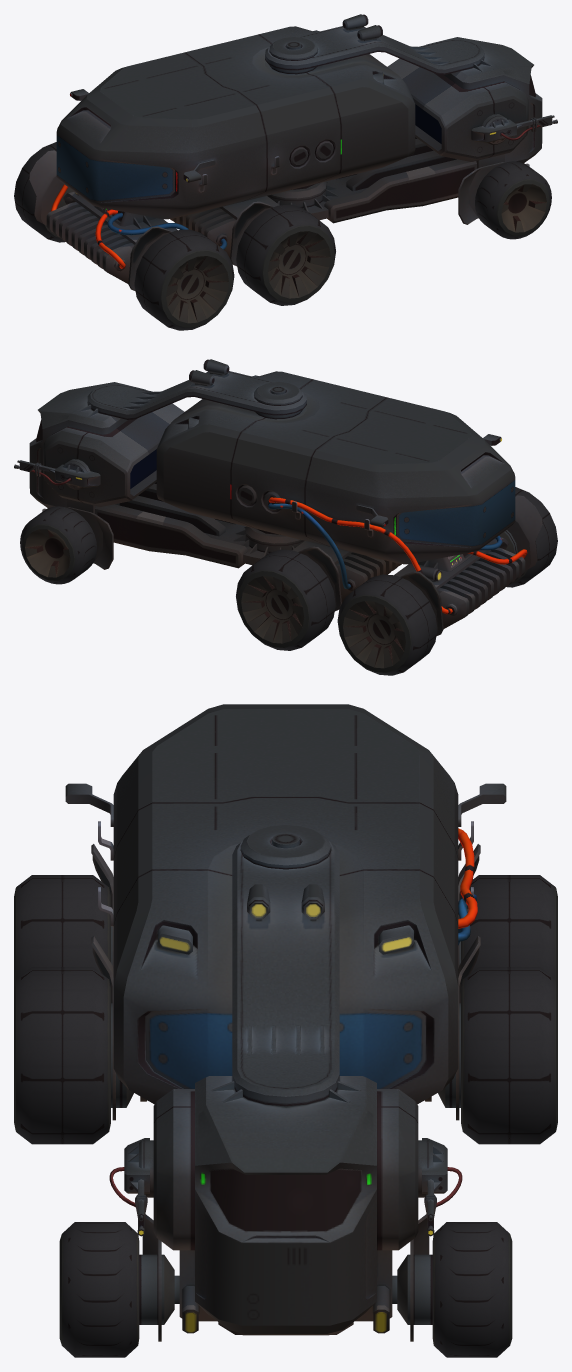
File: Vehicle_1.fbx
The picture shows the model from 3 angles, top to bottom: view 1: azimuth 30°, elevation 25°; view 2: azimuth 150°, elevation 25°; view 3: azimuth 270°, elevation 25°; orthographic projection. The views are drawn at different scales.
Visible parts, largest first — view 1: Vehicle_1, Vehicle_1_Cabin, Wheel_R.R, Wheel_M.R, Wheel_F.R, Suspension_R.L, Wheel_R.L, Cannon.R, Suspension_F.R, Suspension_R.R, Suspension_M.R; view 2: Vehicle_1, Vehicle_1_Cabin, Wheel_R.L, Wheel_M.L, Wheel_F.L, Suspension_R.R, Wheel_R.R, Cannon.L, Suspension_F.L, Suspension_R.L, Suspension_M.L; view 3: Vehicle_1, Vehicle_1_Cabin, Wheel_M.L, Wheel_M.R, Wheel_F.R, Wheel_F.L, Wheel_R.R, Wheel_R.L, Suspension_F.R, Suspension_F.L, Cannon.R, Cannon.L (+2 smaller).
Boxes of the visible parts, left/top/right/bottom form: Vehicle_1: left=46, top=26, right=415, bottom=283; Vehicle_1_Cabin: left=265, top=14, right=542, bottom=223; Wheel_R.R: left=134, top=229, right=234, bottom=330; Wheel_M.R: left=236, top=204, right=335, bottom=305; Wheel_F.R: left=475, top=161, right=551, bottom=239; Suspension_R.L: left=29, top=150, right=73, bottom=225; Wheel_R.L: left=14, top=142, right=65, bottom=242; Cannon.R: left=471, top=114, right=557, bottom=144; Suspension_F.R: left=458, top=162, right=504, bottom=224; Suspension_R.R: left=128, top=226, right=171, bottom=291; Suspension_M.R: left=230, top=201, right=273, bottom=266; Vehicle_1: left=156, top=371, right=527, bottom=628; Vehicle_1_Cabin: left=29, top=359, right=306, bottom=568; Wheel_R.L: left=337, top=574, right=437, bottom=675; Wheel_M.L: left=236, top=549, right=335, bottom=650; Wheel_F.L: left=20, top=506, right=96, bottom=584; Suspension_R.R: left=499, top=495, right=542, bottom=570; Wheel_R.R: left=506, top=487, right=557, bottom=587; Cannon.L: left=14, top=459, right=100, bottom=489; Suspension_F.L: left=67, top=507, right=113, bottom=569; Suspension_R.L: left=400, top=571, right=443, bottom=636; Suspension_M.L: left=298, top=546, right=341, bottom=611; Vehicle_1: left=65, top=704, right=506, bottom=1104; Vehicle_1_Cabin: left=153, top=824, right=418, bottom=1335; Wheel_M.L: left=461, top=967, right=557, bottom=1144; Wheel_M.R: left=14, top=967, right=110, bottom=1144; Wheel_F.R: left=59, top=1222, right=139, bottom=1357; Wheel_F.L: left=432, top=1222, right=512, bottom=1357; Wheel_R.R: left=14, top=875, right=110, bottom=987; Wheel_R.L: left=461, top=875, right=557, bottom=987; Suspension_F.R: left=139, top=1214, right=179, bottom=1341; Suspension_F.L: left=392, top=1214, right=432, bottom=1341; Cannon.R: left=109, top=1138, right=153, bottom=1236; Cannon.L: left=418, top=1138, right=462, bottom=1236.
Size of the model in its own units: 5.39 by 2.25 by 3.
